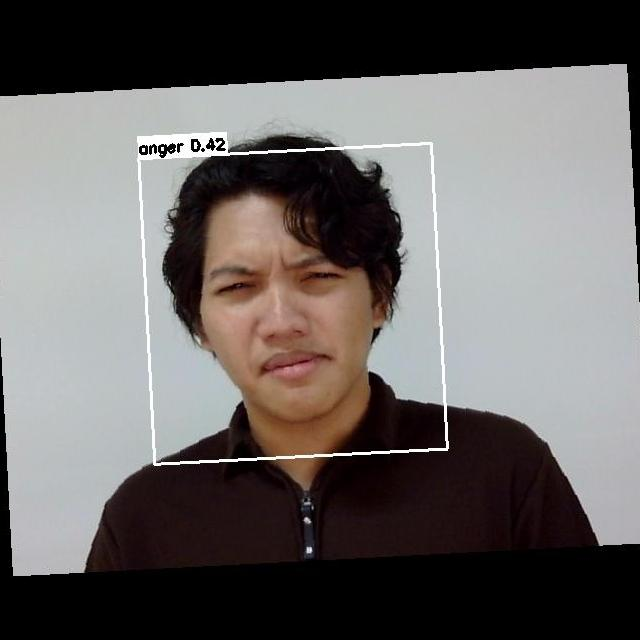Disgust: (195, 233, 375, 391)
